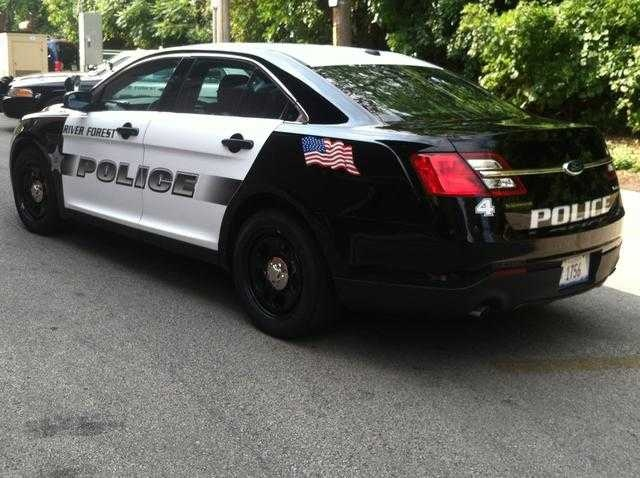Police Car: (30, 21, 623, 365)
